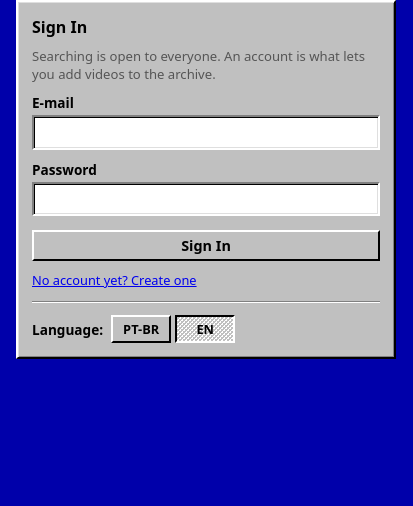
Test case: AuthPanel › should tell a new account to confirm its e-mail, at the address it gave
The image size is (413, 506).
Click the button "No account yet? Create one". click: point(114, 280)
box: [32,271,197,289]
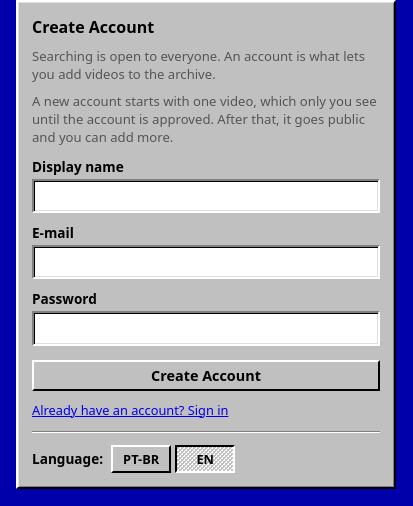
Type "Maria" into the field labelled "Display name". click: point(206, 196)
box: [32,179,380,213]
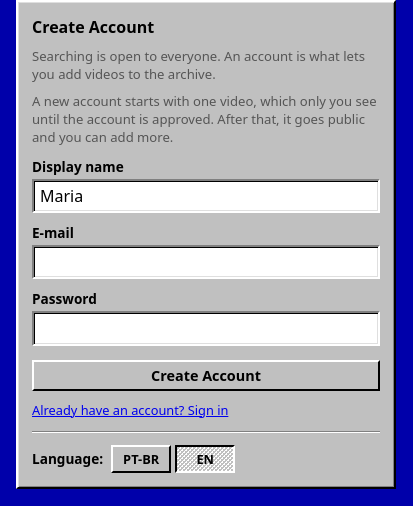
Type "maria@exemplo.com" into the field labelled "E-mail". click: point(206, 262)
box: [32,245,380,279]
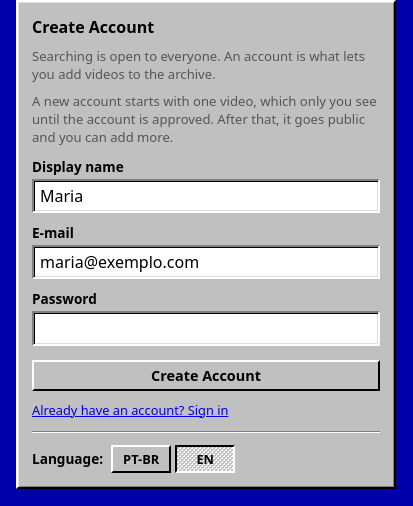
Type "segredo123" into the password field labelled "Password". click: point(206, 329)
box: [32,311,380,346]
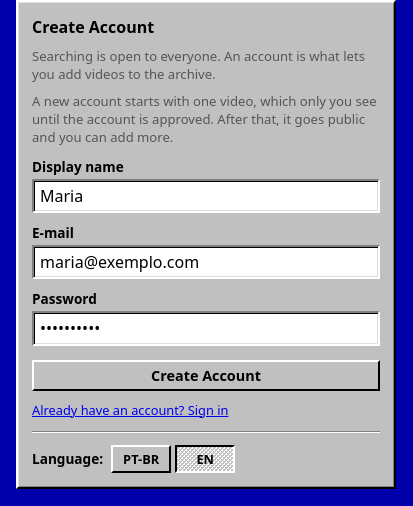
Click the button "Create Account". click: point(206, 375)
box: [32,360,380,391]
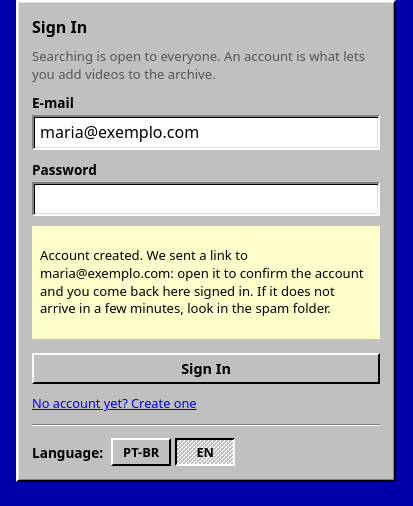
Result: the text "We sent a link to maria@exemplo.com" is shown at [40,246,364,318]
Result: the button "Sign In" is shown at [32,353,380,384]
